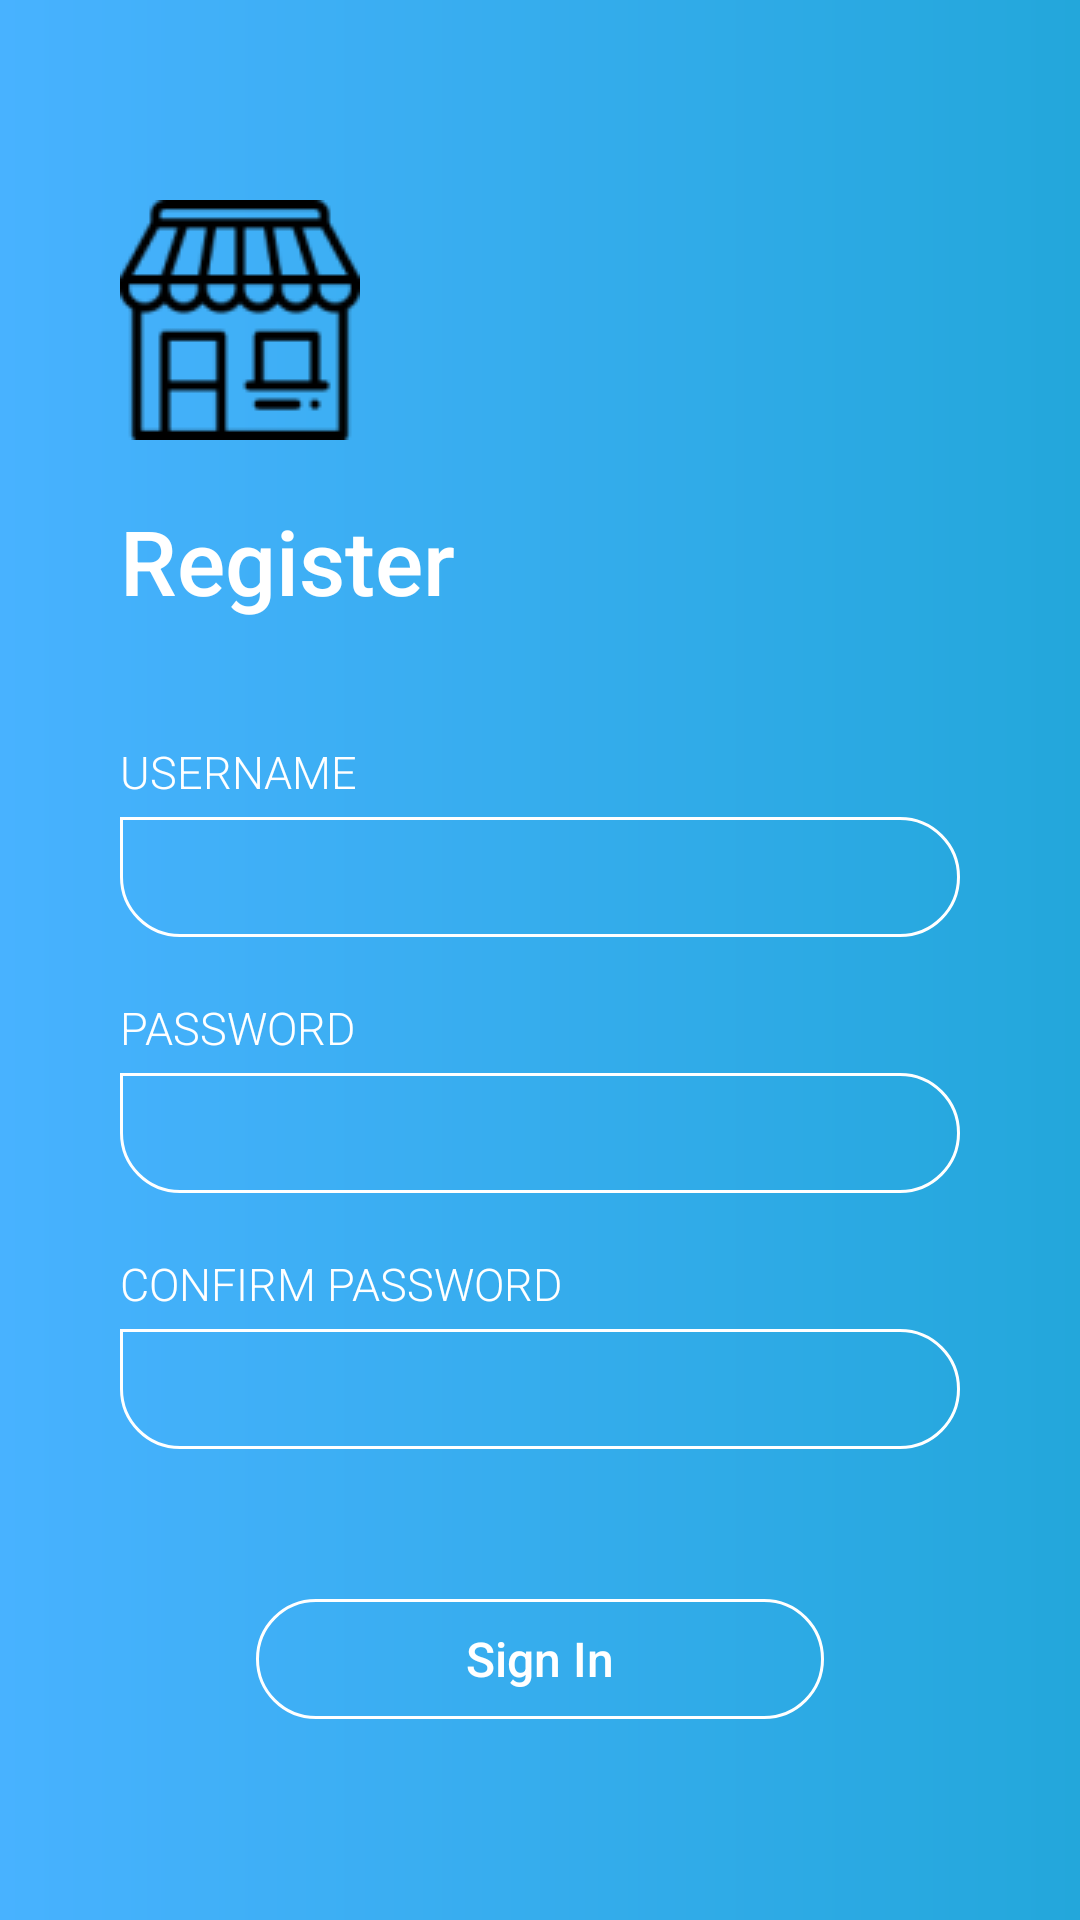

Locate icon controls on the screen. Image size 1080x1920, boxes as (x1, y1, x2, y2).
shoppingstore: (120, 200, 360, 440)
